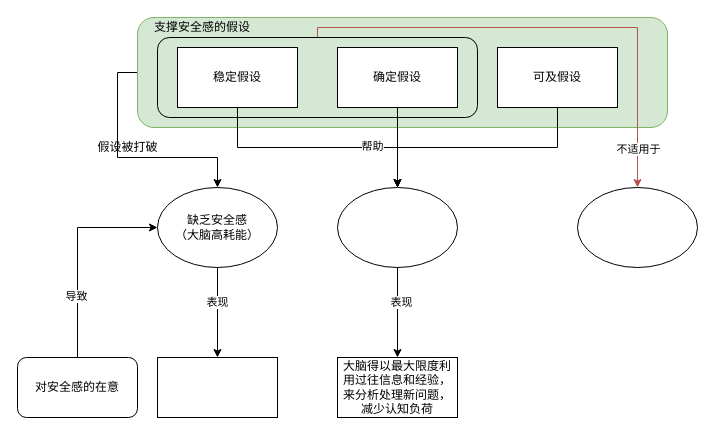
Some shapes in this 715 by 435 pixel diagram are drawn without their labels. Here are the shapes that lost their labels. From the top down, the centre of each, then its label:
At [397,227]: "安全感 （大脑低耗能）".
At [637,227]: "VUCA时代 （ volatility-uncertainty -complexity- ambiguity ）".
At [217,387]: "敏感、多疑、偏执、反复".
